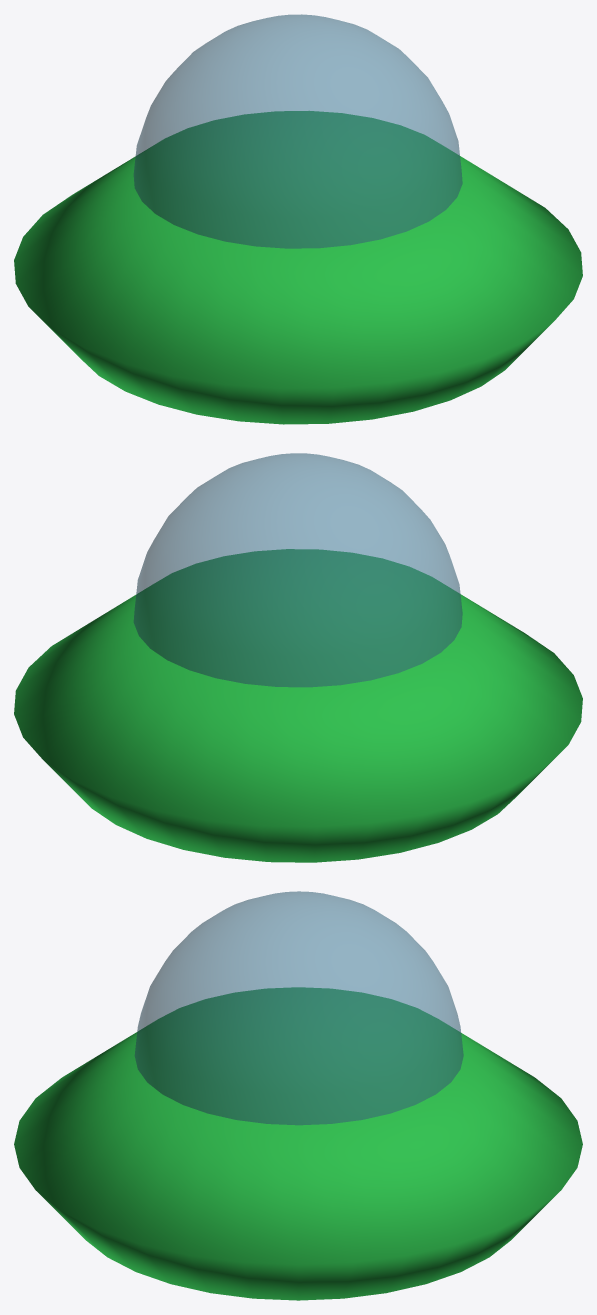
Rendered from spaceship.glb.
The picture shows the model from 3 angles, top to bottom: view 1: azimuth 30°, elevation 25°; view 2: azimuth 150°, elevation 25°; view 3: azimuth 270°, elevation 25°; orthographic projection.
Visible parts, largest first — view 1: Cylinder, Sphere; view 2: Cylinder, Sphere; view 3: Cylinder, Sphere.
Boxes of the visible parts, x1,y1,x2,y2 form: Cylinder: (14,111,582,424); Sphere: (133,14,462,248); Cylinder: (14,549,582,862); Sphere: (133,453,462,687); Cylinder: (14,987,582,1300); Sphere: (134,891,463,1125).
Size of the model in its own units: 1.62 by 0.9349 by 1.62.
2 materials, 1 textured.
